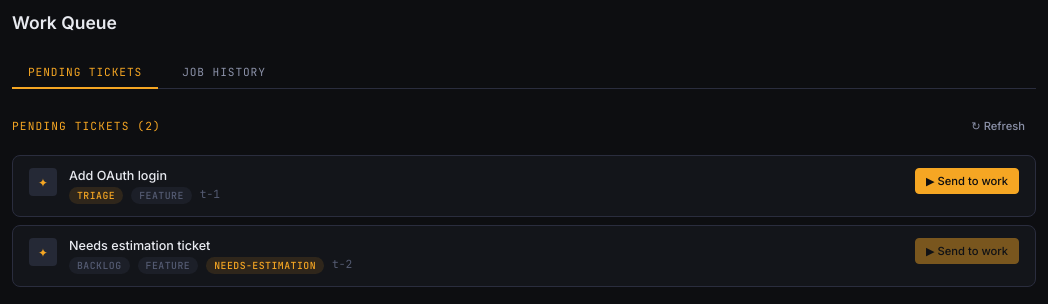
Scenario: QueuePage › switches to history tab on click
expect the text "Add OAuth login" is shown: met, box [69, 168, 167, 183]
Click the button "Job history": (224, 73) [166, 57, 282, 89]
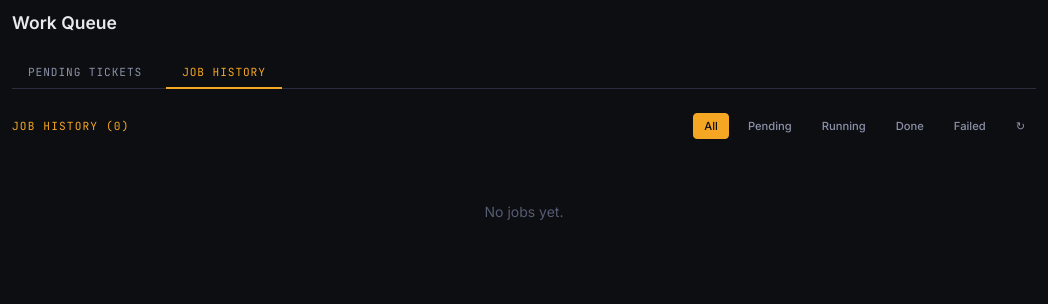
expect the text "No jobs yet." is shown: met, box [484, 203, 563, 220]
